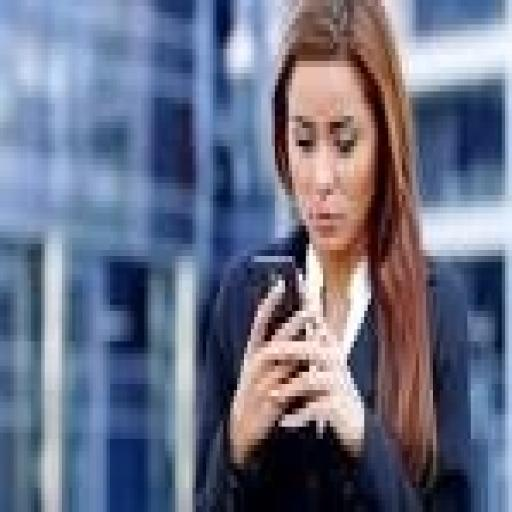texting: (189, 0, 474, 506)
